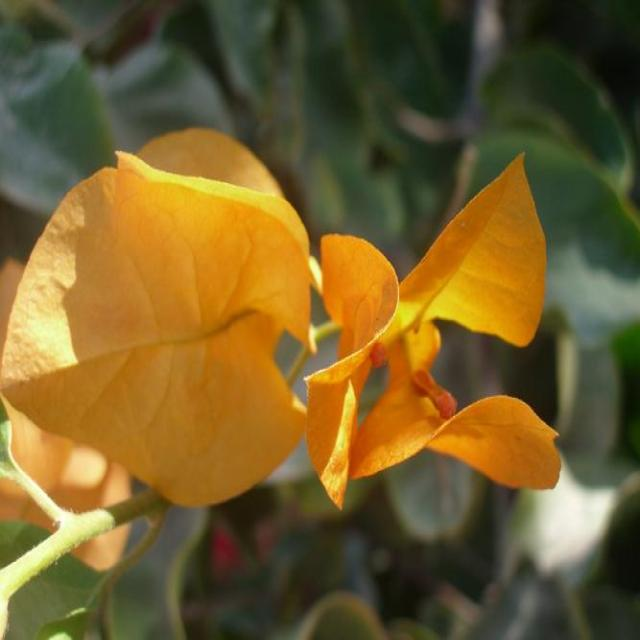bougainvillea: (29, 112, 640, 564)
